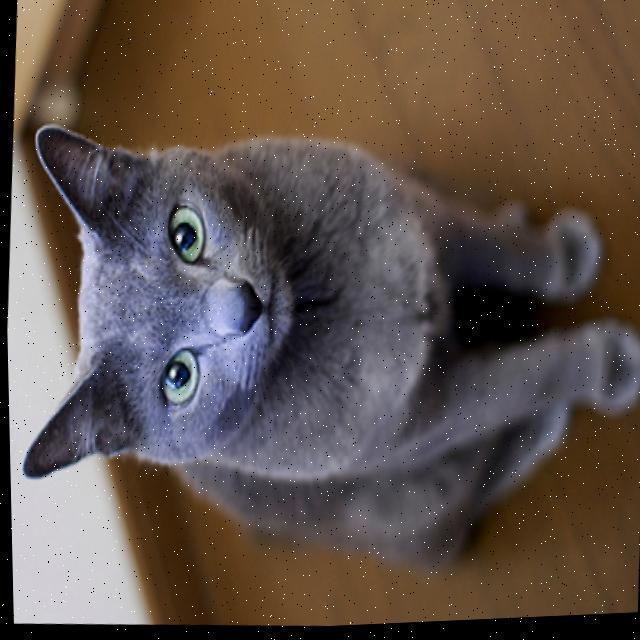Russian Blue: (3, 97, 640, 599)
